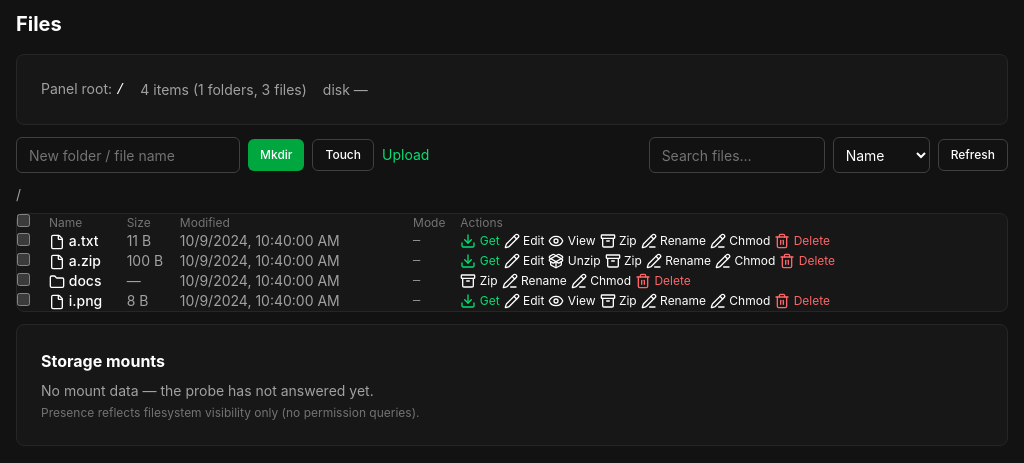
Test case: web files page › navigates into directories and back up
Click the button "docs" at [75, 281], box [49, 271, 102, 291]
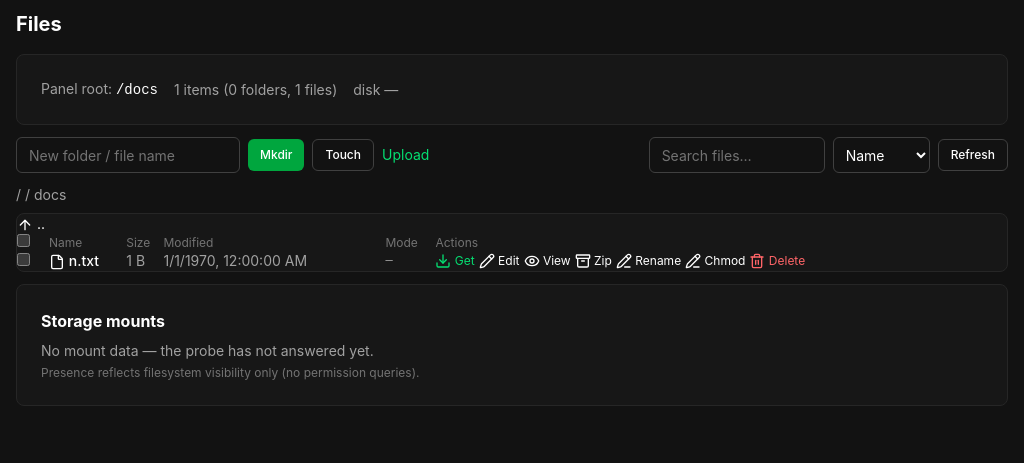
Now the text "n.txt" is shown, box [49, 252, 99, 269]
Click the button ".." at [31, 224], box [17, 214, 45, 234]
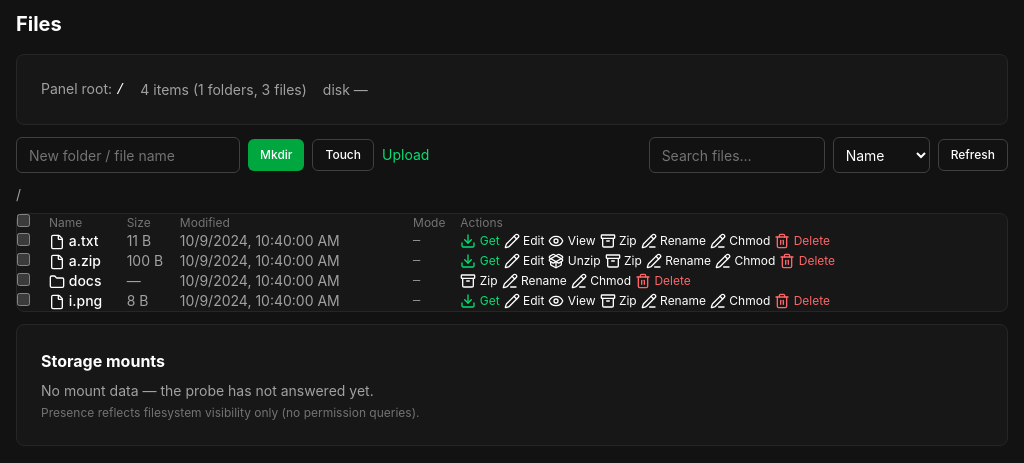
Now the text "a.txt" is shown, box [49, 232, 98, 249]
